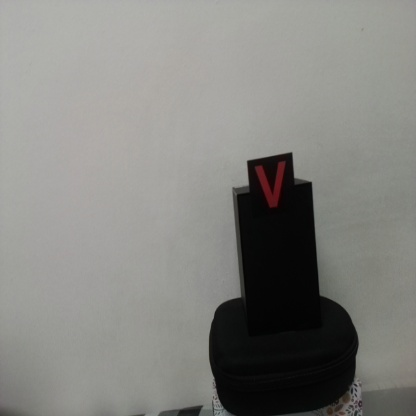id_11: (248, 161, 295, 216)
